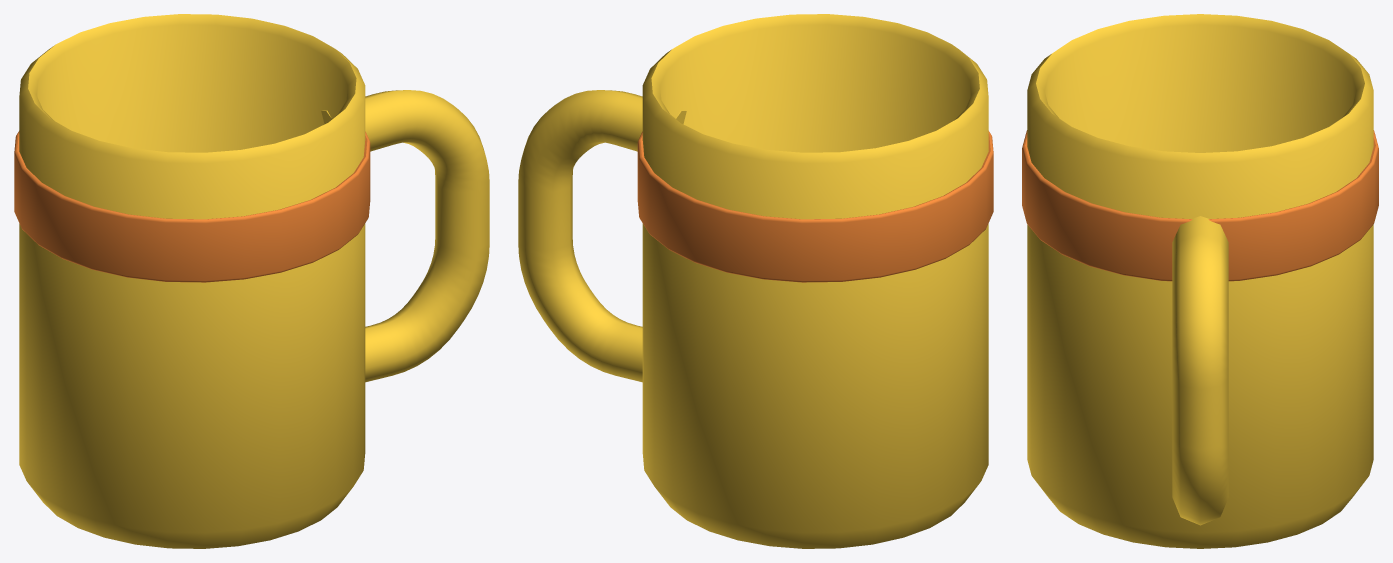
Rendered from caneca_amarela.glb.
The picture shows the model from 3 angles, left to right: view 1: azimuth 30°, elevation 25°; view 2: azimuth 150°, elevation 25°; view 3: azimuth 270°, elevation 25°; orthographic projection.
Parts seen in each view (by area): view 1: caneca_amarela; view 2: caneca_amarela; view 3: caneca_amarela.
Boxes of the visible parts, x1=… form: caneca_amarela: x1=14, y1=14, x2=489, y2=548; caneca_amarela: x1=518, y1=14, x2=993, y2=548; caneca_amarela: x1=1022, y1=14, x2=1378, y2=548.
Bounding box in the file's own units: 0.1197 × 0.1018 × 0.0824.
1 material, 1 textured.
